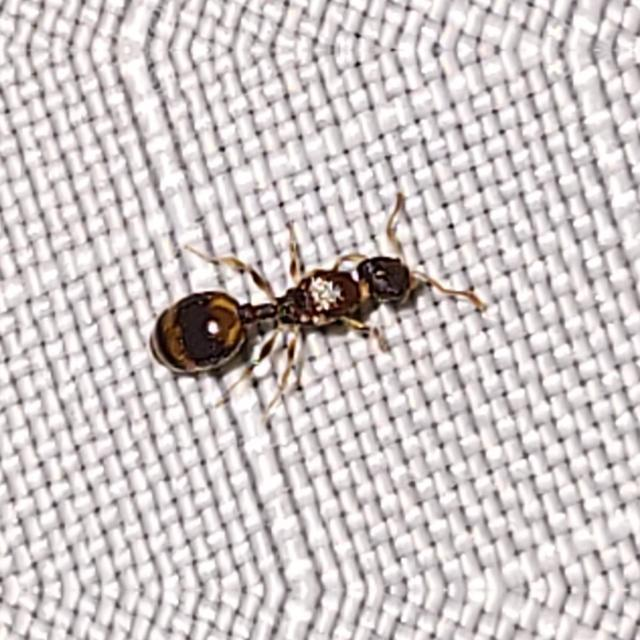Temnothorax: (147, 217, 466, 397)
